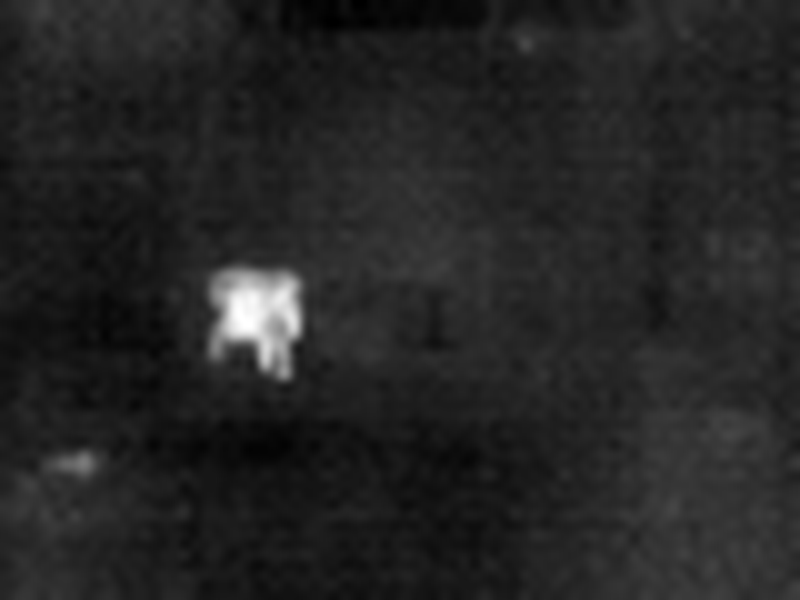elephant: (208, 259, 318, 379)
